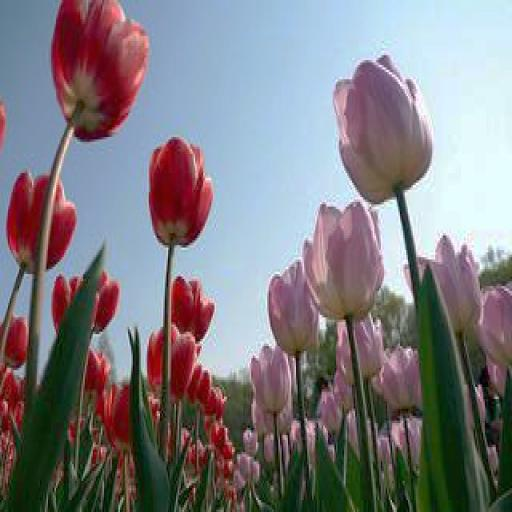tulip: (331, 53, 434, 199), (50, 2, 150, 142), (301, 200, 384, 320), (5, 171, 77, 274), (149, 137, 213, 248), (146, 322, 196, 402), (248, 344, 290, 413), (172, 274, 214, 339)
